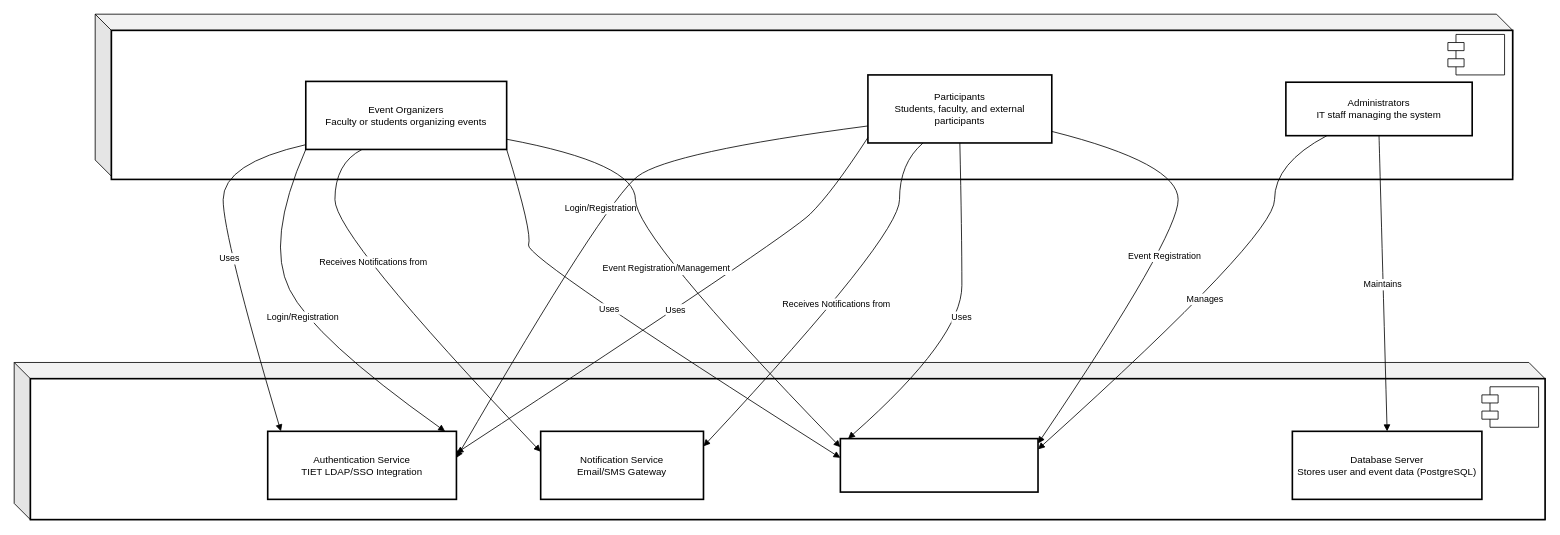
Image size: 1560x535. Some labels were removed from this diagram. Here are the shapes that lost their labels. From the top down, the box of each, then its label:
(110, 29, 1513, 180): User Classes
(29, 377, 1545, 520): System Infrastructure
(839, 437, 1038, 492): Application Server Hosts the EMS Web Application
